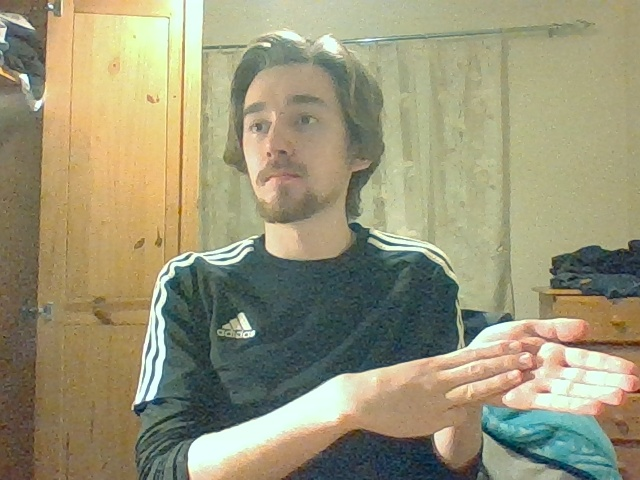mother: (456, 317, 640, 416)
